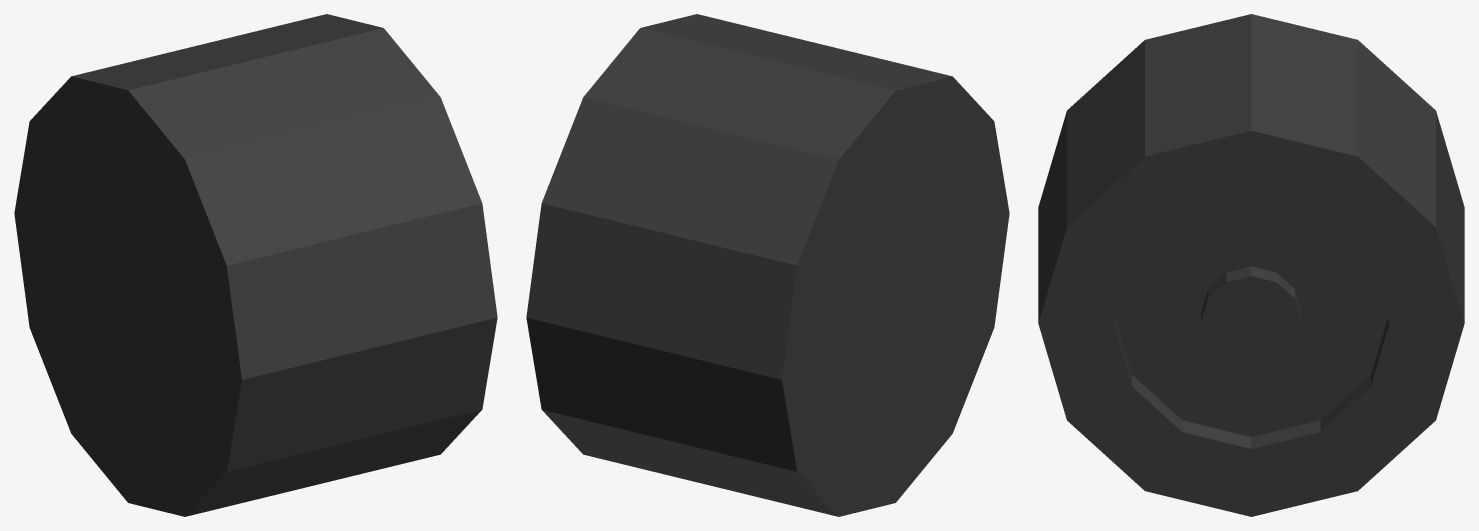
Rendered from tankWheel.fbx.
3 views of the same model, side by side, from view 1: azimuth 30°, elevation 25°; view 2: azimuth 150°, elevation 25°; view 3: azimuth 270°, elevation 25° (orthographic). The views are drawn at different scales.
Parts seen in each view (by area): view 1: Wheel.002; view 2: Wheel.002; view 3: Wheel.002.
Boxes of the visible parts, <box> form: Wheel.002: <box>14,14,497,516</box>; Wheel.002: <box>526,14,1009,516</box>; Wheel.002: <box>1038,14,1464,516</box>.
Bounding box in the file's own units: 1.3 × 2 × 2.
